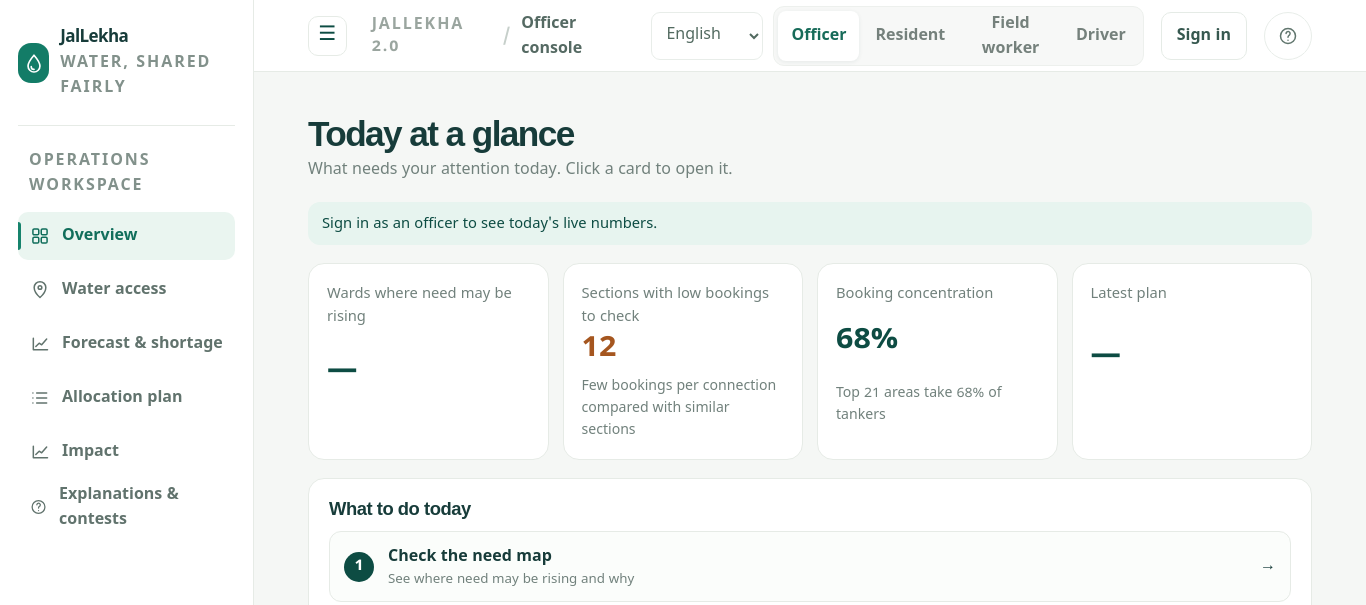
Test: App › translates resident and driver shells and applies Urdu right-to-left direction
Select "తెలుగు" in the dropdown named "Language": x=708, y=36 [652,12,764,60]
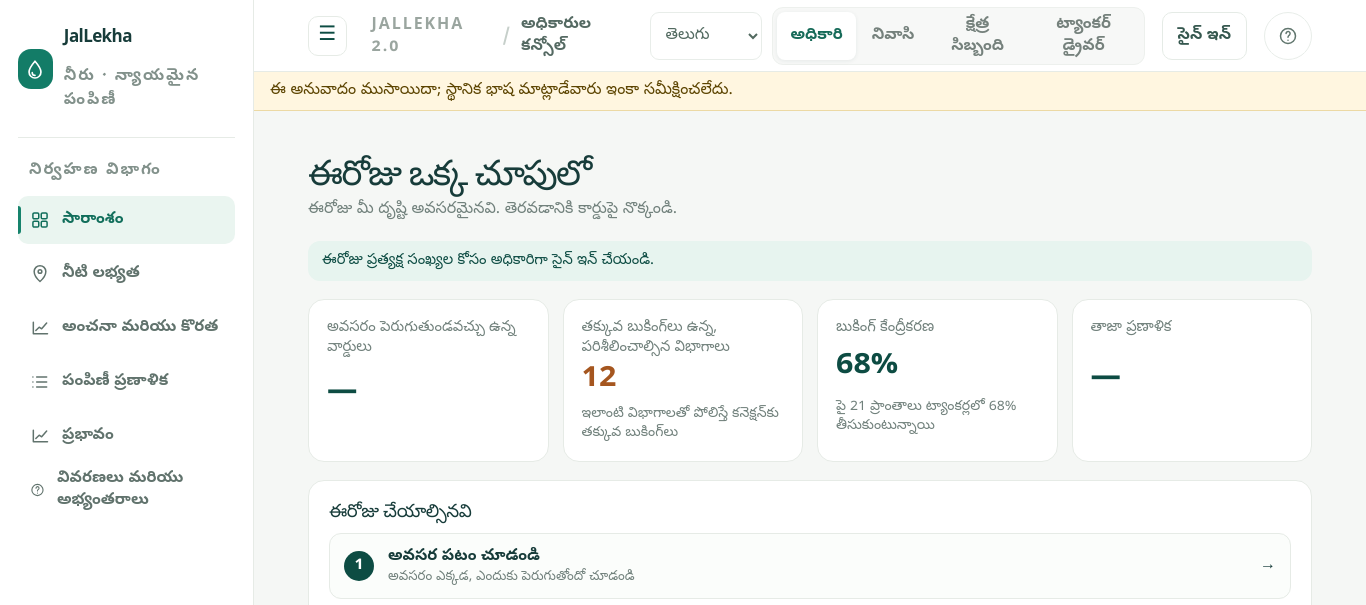
Click the button "నివాసి": x=893, y=36 [859,12,928,60]
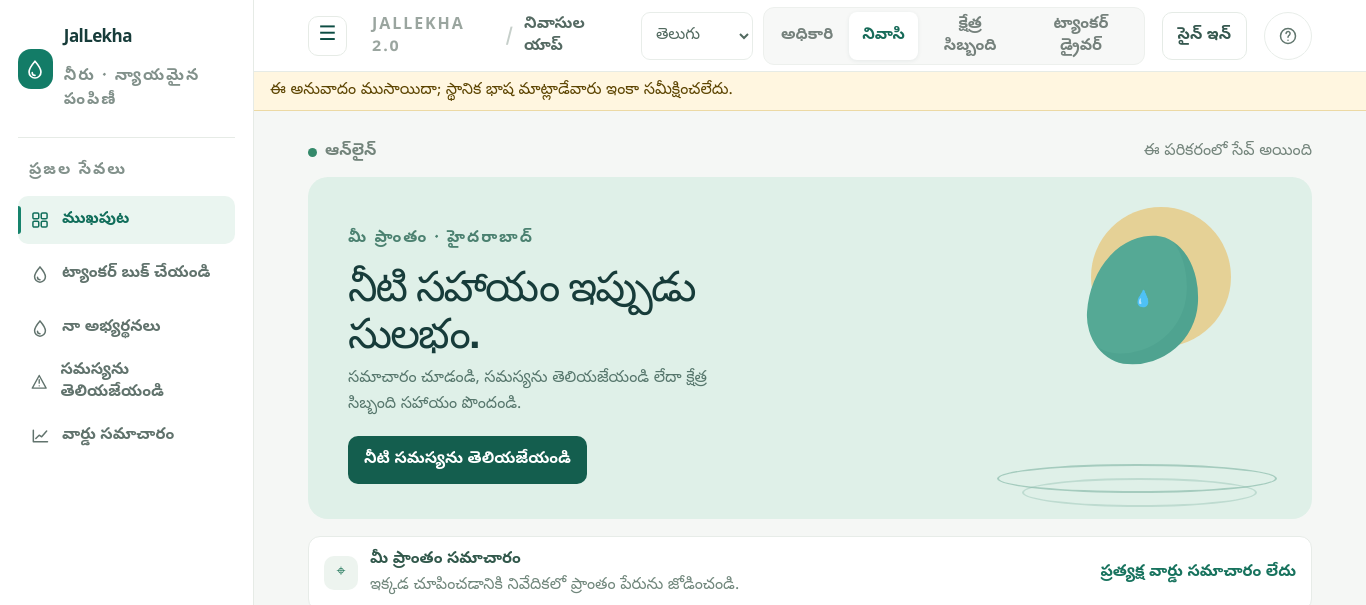
Now the heading "నీటి సహాయం ఇప్పుడు సులభం." is shown, box [348,263,695,358]
Select "اردو" in the dropdown named "Language": x=697, y=36 [641,12,753,60]
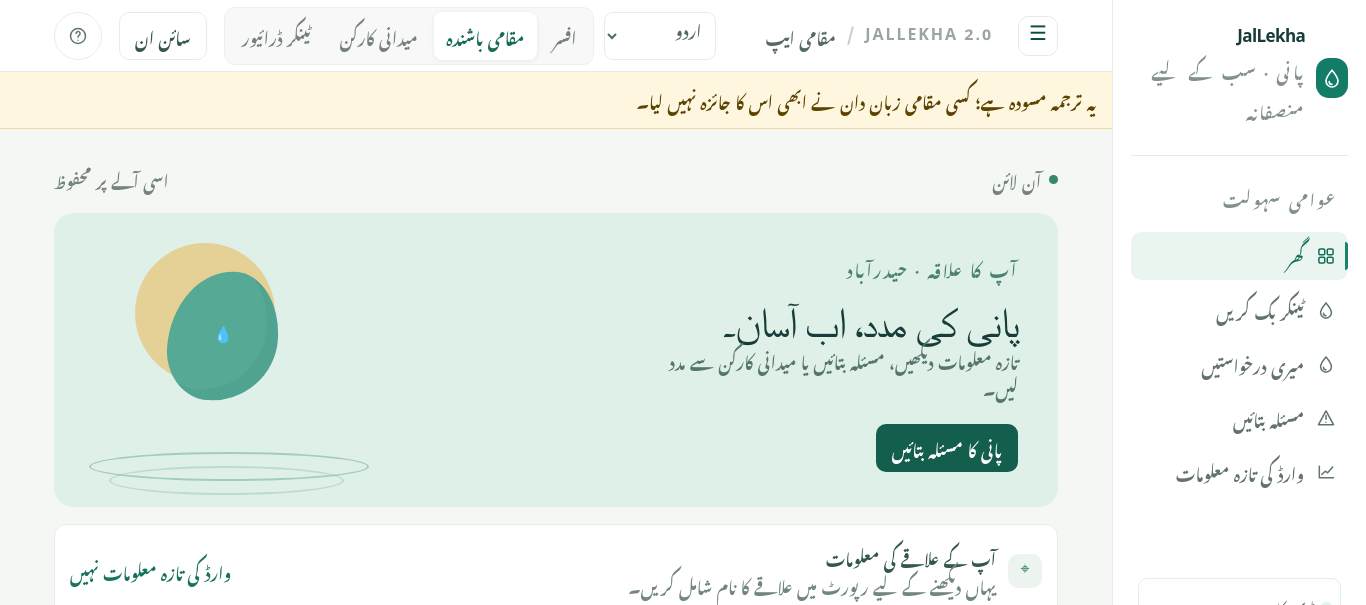
Click the button "ٹینکر ڈرائیور": x=276, y=36 [229,12,324,60]
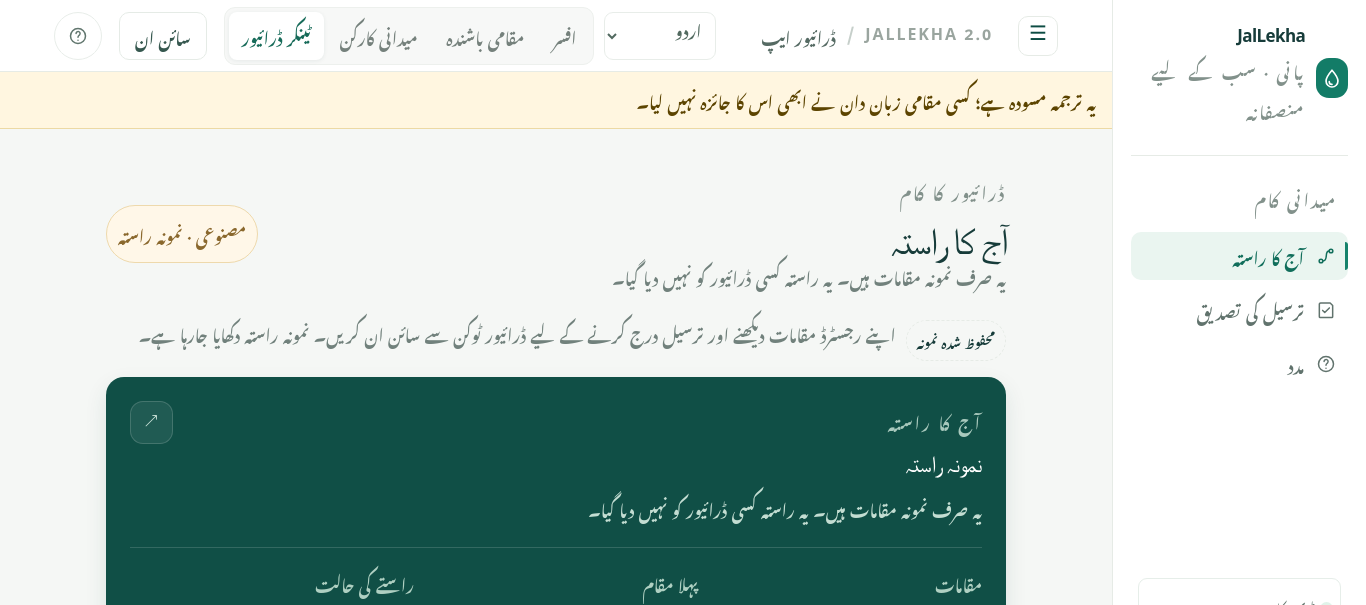
Now the heading "آج کا راستہ" is shown, box [890,221,1006,262]
Select "हिन्दी" in the dropdown named "Language": x=660, y=36 [604,12,716,60]
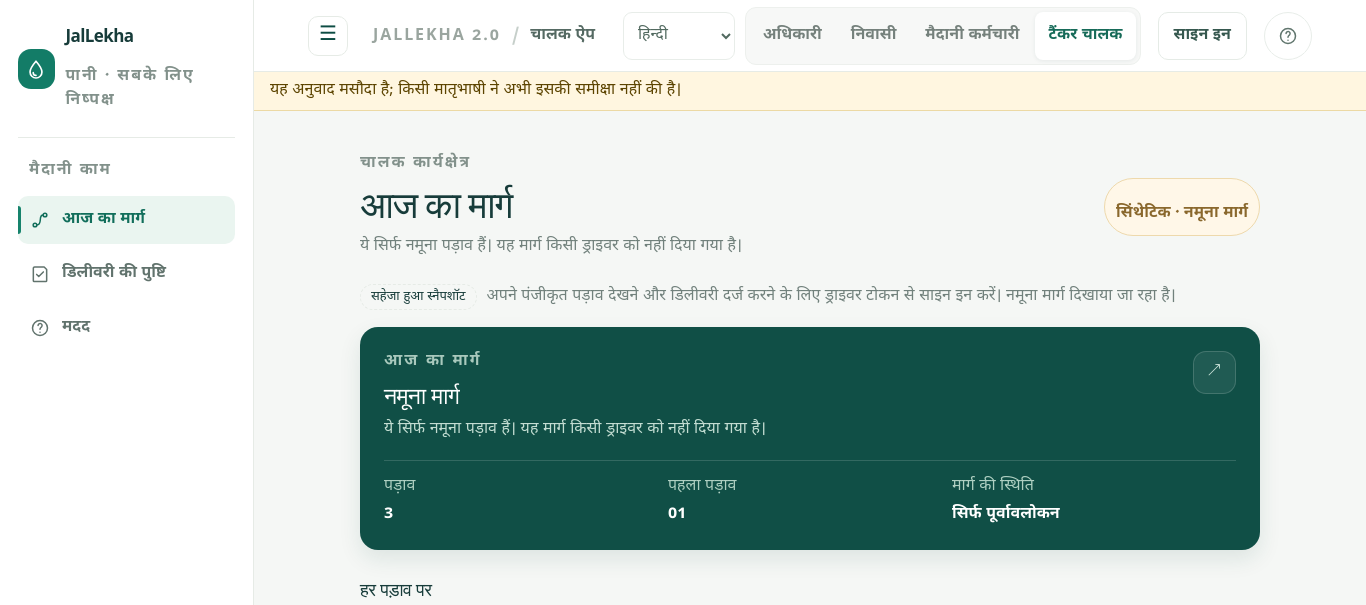
Now the heading "आज का मार्ग" is shown, box [360,185,512,226]
